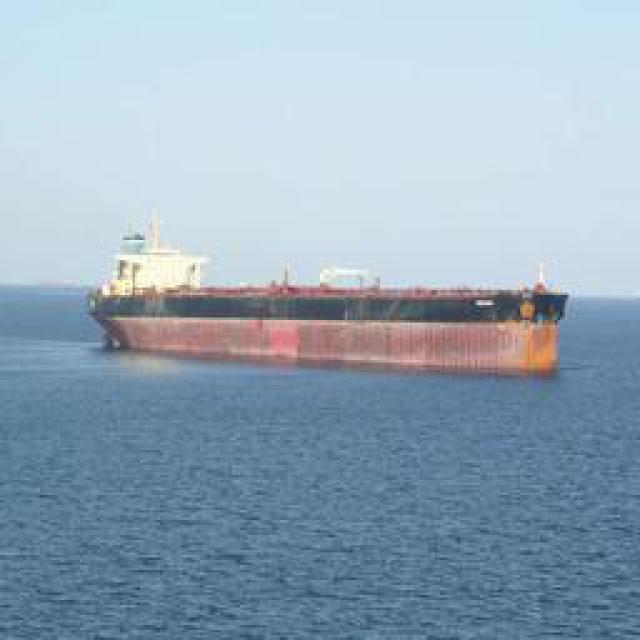Ship: (99, 232, 564, 375)
